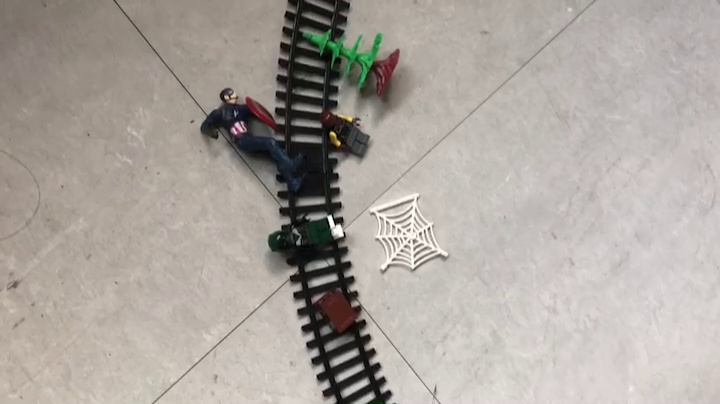box: (312, 290, 357, 338)
people: (199, 87, 310, 192), (268, 213, 345, 268), (319, 109, 371, 160)
tree: (303, 28, 400, 98)
web: (368, 194, 452, 277)
